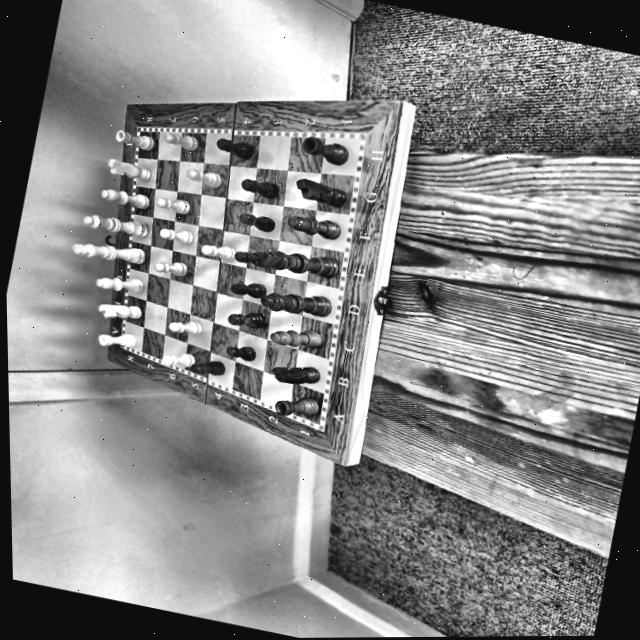black-bishop: (282, 209, 348, 243), (265, 319, 324, 354)
black-king: (254, 242, 341, 285)
black-knight: (290, 175, 352, 211), (267, 355, 323, 391)
black-pawn: (225, 272, 272, 304), (223, 303, 267, 335), (186, 352, 229, 382), (236, 173, 282, 201), (213, 134, 255, 161), (234, 208, 277, 234), (231, 242, 271, 269), (223, 337, 259, 364)
black-queen: (256, 280, 335, 324)
black-rook: (297, 132, 353, 169), (270, 386, 321, 425)
white-bishop: (91, 268, 149, 299), (96, 184, 153, 211)
white-king: (68, 232, 148, 270)
white-knight: (94, 294, 144, 328), (103, 155, 155, 185)
white-pawn: (164, 312, 207, 340), (196, 238, 238, 265), (150, 253, 191, 280), (152, 191, 194, 217), (183, 164, 225, 190), (158, 345, 198, 372), (152, 223, 197, 247), (160, 128, 201, 153)
white-queen: (79, 207, 152, 242)
white-rook: (94, 326, 138, 354), (110, 127, 156, 152)
